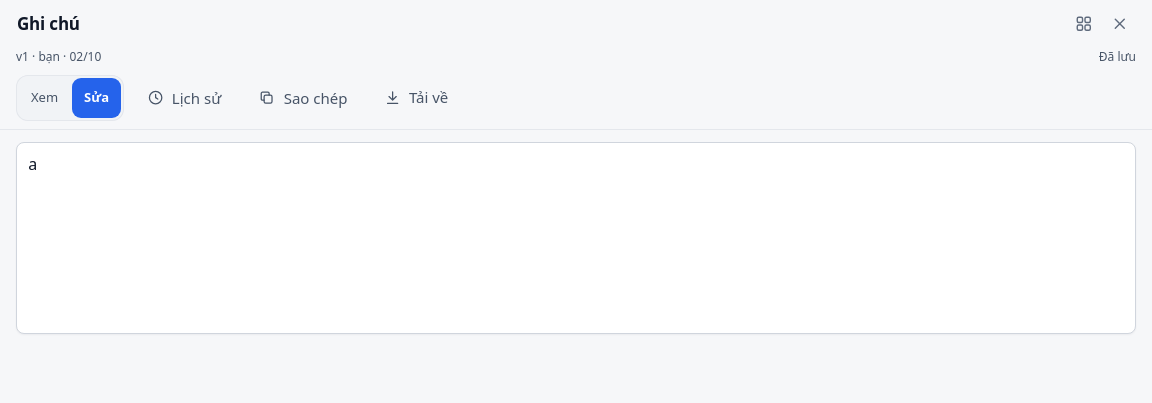
the notices over a canvas › takes the warning back as soon as the typing is back to what is saved
Replace the text in the text box named "Nội dung canvas" with "ab". click: (576, 238)
box: x1=16 y1=142 x2=1136 y2=334
Wait 300 ms
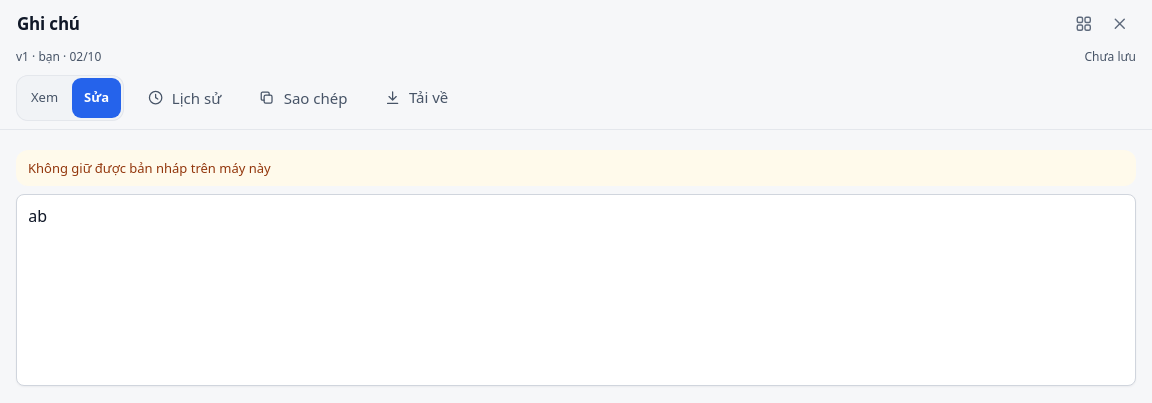
Replace the text in the text box named "Nội dung canvas" with "a". click: (576, 290)
box: x1=16 y1=194 x2=1136 y2=386
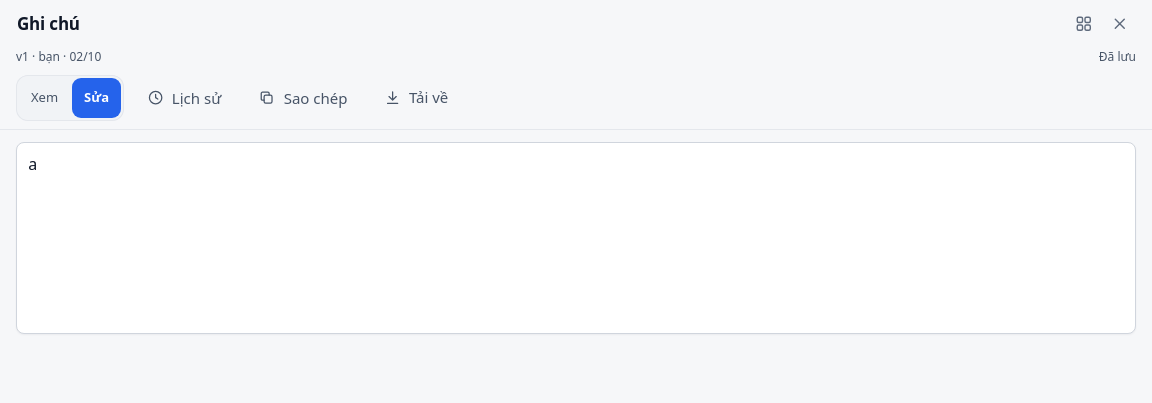
Result: the text "Không giữ được bản nháp trên máy này" is gone
